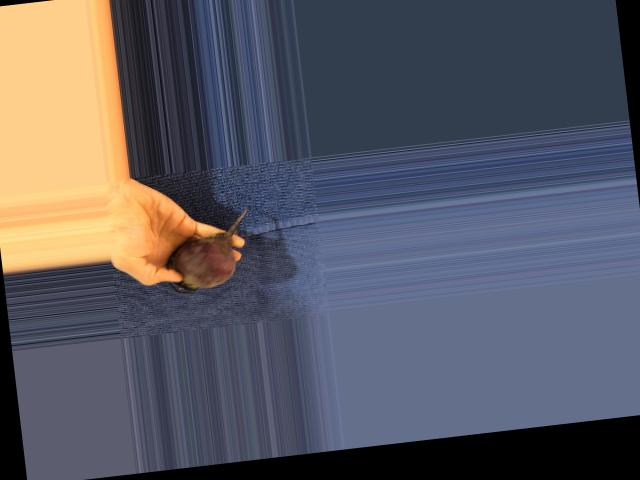beet: (161, 207, 256, 295)
